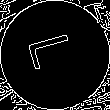L_E: (27, 33, 83, 77)
